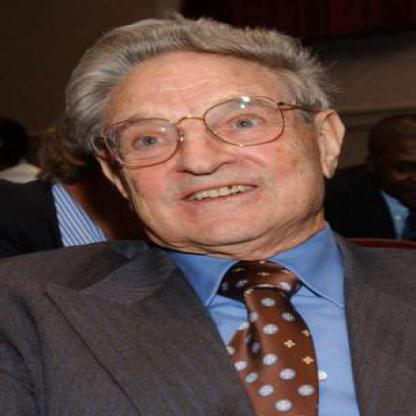face: (97, 27, 320, 253)
